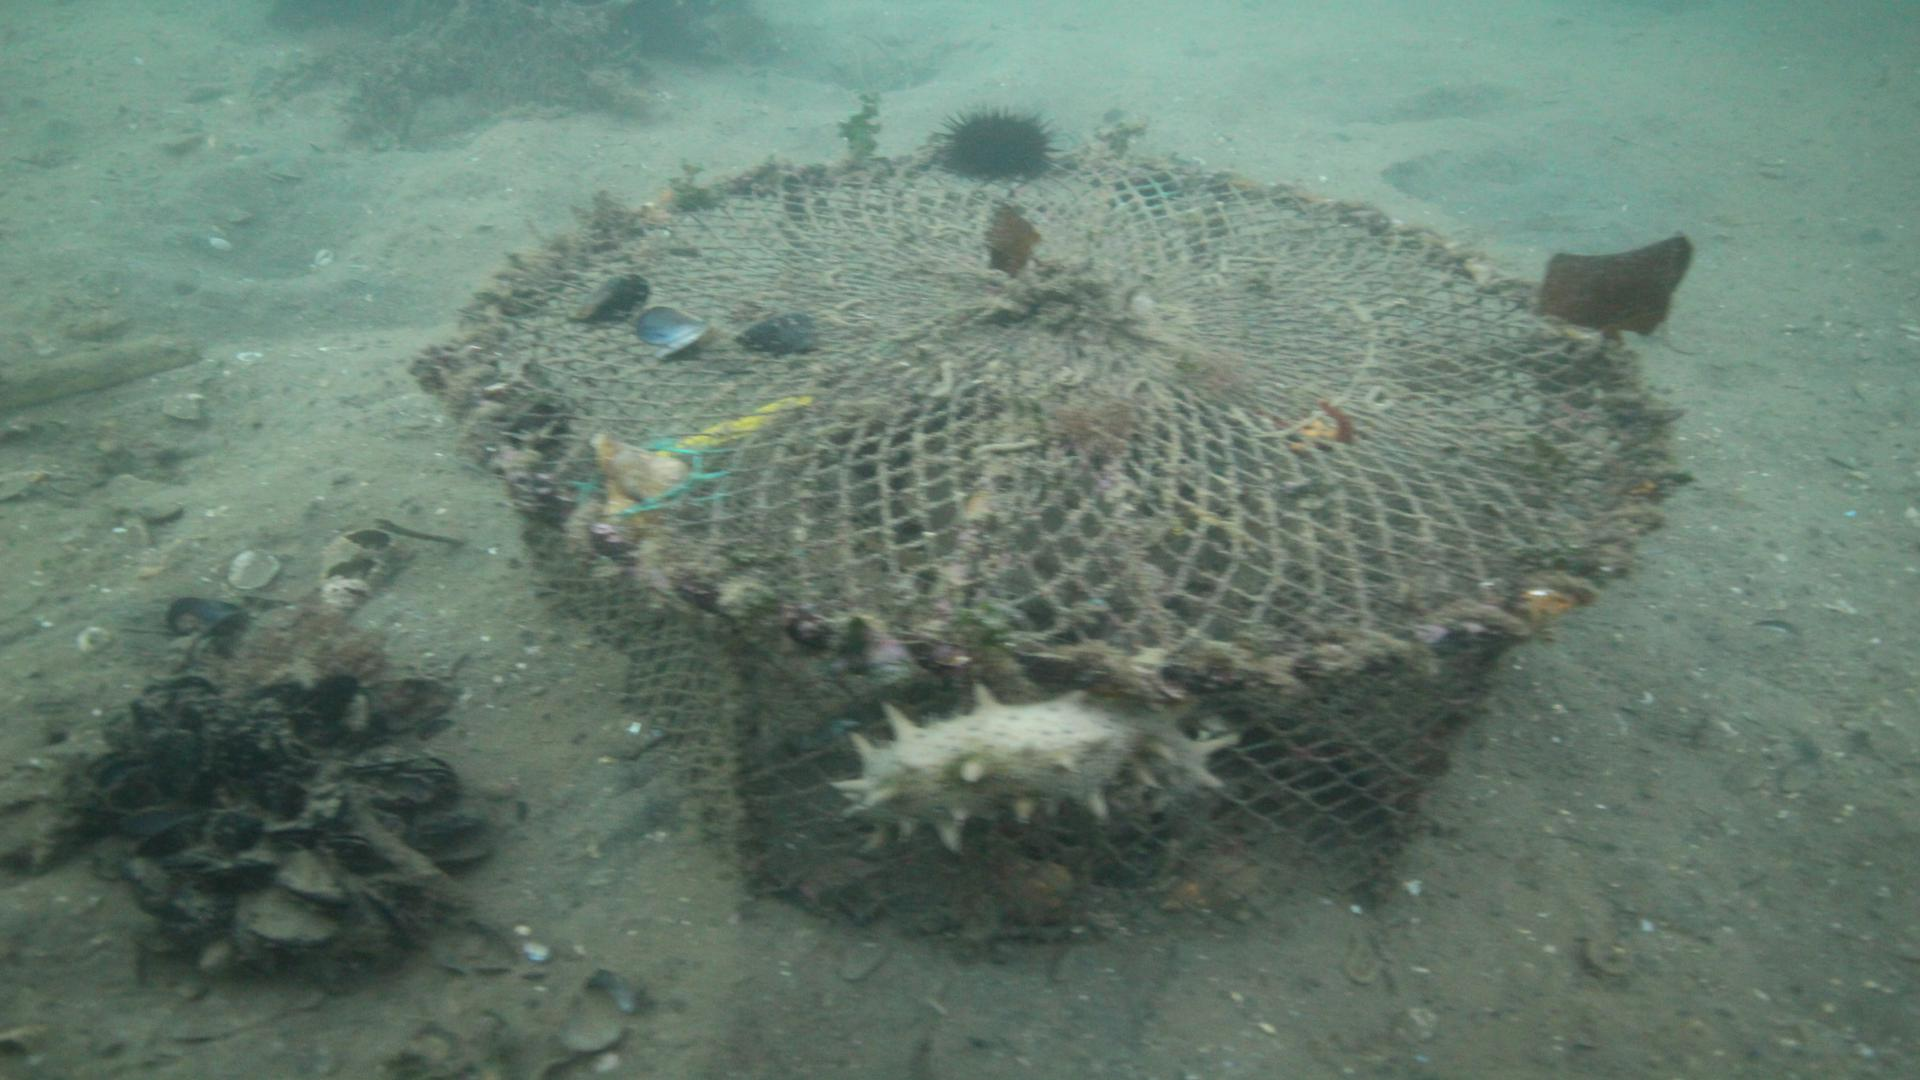circular fish trap: (434, 144, 1677, 949)
